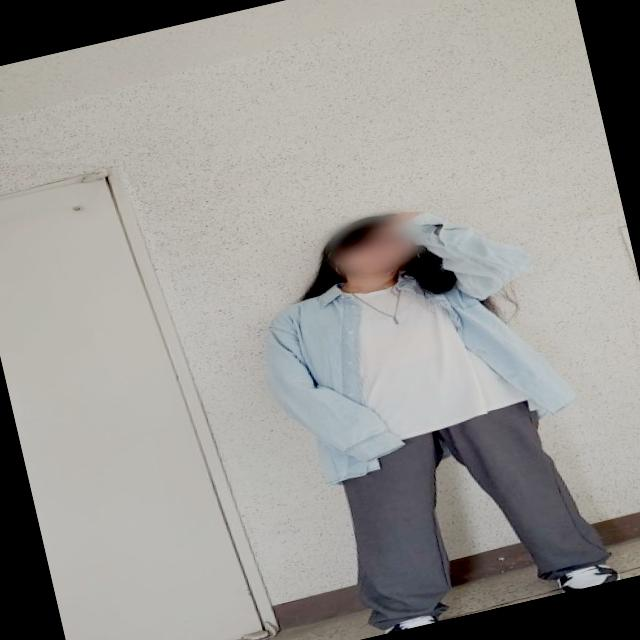shirt: (244, 185, 590, 495)
slacks: (322, 381, 620, 634)
